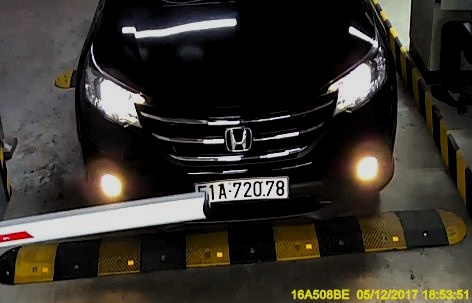plate: (194, 177, 289, 204)
